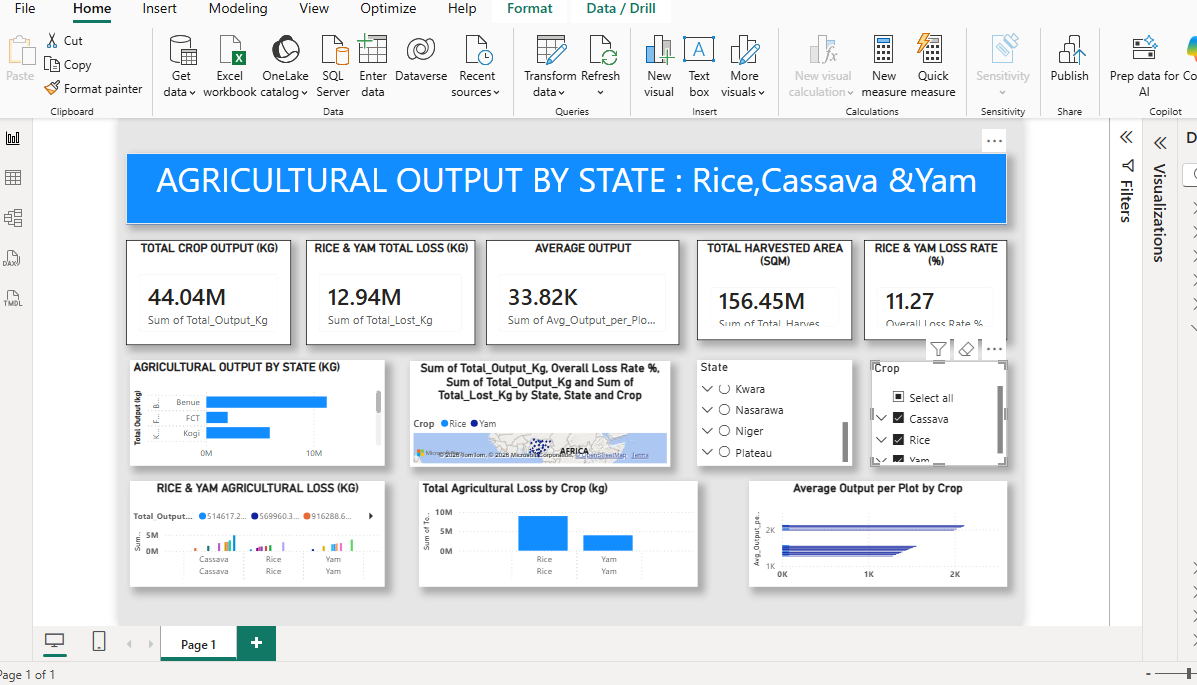

Layout of this report page (visuals, bound fields, positions):
{"tool":"powerbi","page":{"name":"Page 1","canvas":[1280,720],"ordinal":0},"visuals":[{"type":"textbox","box":[10.1,49,1248.5,100.8],"z":0},{"type":"cardVisual","title":"TOTAL CROP OUTPUT (KG)","fields":{"Data":["Sum(tblCassavaNC.Total_Output_Kg)","Sum(tblCassavaNC.Total_Output_Kg)"]},"box":[9.9,172.9,233.9,148.8],"z":1000},{"type":"cardVisual","title":"RICE & YAM TOTAL LOSS (KG)","fields":{"Data":["Sum(tblRiceYamOutput.Total_Lost_Kg)"]},"box":[265,172.9,239.5,148.8],"z":2000},{"type":"cardVisual","title":"AVERAGE OUTPUT","fields":{"Data":["Sum(tblCassavaNC.Avg_Output_per_Plot_Kg)","Sum(tblCassavaNC.Avg_Output_per_Plot_Kg)"]},"box":[520.2,172.9,273.5,148.8],"z":3000},{"type":"cardVisual","title":"TOTAL HARVESTED AREA (SQM) ","fields":{"Data":["Sum(tblCassavaNC.Total_Harvested_Area_SQM)","Sum(tblCassavaNC.Total_Harvested_Area_SQM)"]},"box":[819.2,172.9,219.7,141.7],"z":4000},{"type":"cardVisual","title":"RICE & YAM LOSS RATE (%)","fields":{"Data":["tblRiceYamOutput.Overall Loss Rate %","tblRiceYamOutput.Overall Loss Rate %"]},"box":[1055.9,172.9,202.7,141.7],"z":5000},{"type":"clusteredBarChart","title":"AGRICULTURAL OUTPUT BY STATE (KG)","fields":{"Category":["tblCassavaNC.State","tblCassavaNC.State"],"Y":["Sum(tblCassavaNC.Total_Output_Kg)","Sum(tblCassavaNC.Total_Output_Kg)"]},"box":[15.6,343,361.4,150.2],"z":6000},{"type":"map","fields":{"Category":["tblRiceYamOutput.State","tblRiceYamOutput.State"],"Series":["tblRiceYamOutput.Crop"],"Size":["Sum(tblRiceYamOutput.Total_Output_Kg)"]},"box":[412.4,344.4,368.5,150.2],"z":7000},{"type":"clusteredColumnChart","title":"RICE & YAM AGRICULTURAL LOSS (KG)","fields":{"Category":["tblCassavaNC.Crop","tblCassavaNC.Crop"],"Y":["Sum(tblCassavaNC.Total_Output_Kg)"],"Series":["tblCassavaNC.Total_Output_Kg"]},"box":[15.6,514.5,361.4,150.2],"z":8000},{"type":"clusteredColumnChart","title":" Total Agricultural Loss by Crop (kg)","fields":{"Category":["tblALLcropoutput.Crop","tblALLcropoutput.Crop"],"Y":["Sum(tblALLcropoutput.Total_Lost_Kg)"]},"box":[425.2,514.5,394.6,149.8],"z":9000},{"type":"listSlicer","fields":{"Values":["tblCassavaNC.State","tblCassavaNC.State"]},"box":[819.2,343,219.7,150.2],"z":10000},{"type":"listSlicer","fields":{"Values":["tblCassavaNC.Crop","tblCassavaNC.Crop"]},"box":[1065.8,344.4,192.8,148.8],"z":11000},{"type":"clusteredBarChart","title":"Average Output per Plot by Crop","fields":{"Y":["CountNonNull(tblALLcropoutput.State)","Sum(tblCassavaNC.Avg_Output_per_Plot_Kg)"],"Category":["tblCassavaNC.Avg_Output_per_Plot_Kg"]},"box":[892.9,514.5,365.8,149.8],"z":12000}]}

Visuals, with their boxes on the page's 1280x720 design canvas (x1, y1, x2, y2). These are canvas units, not pixel positions in the 1197x685 screenshot, which may show the page scaled, cropped or inside an application window:
textbox: x1=10 y1=49 x2=1259 y2=150
"TOTAL CROP OUTPUT (KG)" cardVisual: x1=10 y1=173 x2=244 y2=322
"RICE & YAM TOTAL LOSS (KG)" cardVisual: x1=265 y1=173 x2=504 y2=322
"AVERAGE OUTPUT" cardVisual: x1=520 y1=173 x2=794 y2=322
"TOTAL HARVESTED AREA (SQM) " cardVisual: x1=819 y1=173 x2=1039 y2=315
"RICE & YAM LOSS RATE (%)" cardVisual: x1=1056 y1=173 x2=1259 y2=315
"AGRICULTURAL OUTPUT BY STATE (KG)" clusteredBarChart: x1=16 y1=343 x2=377 y2=493
map - tblRiceYamOutput.State x tblRiceYamOutput.State: x1=412 y1=344 x2=781 y2=495
"RICE & YAM AGRICULTURAL LOSS (KG)" clusteredColumnChart: x1=16 y1=514 x2=377 y2=665
" Total Agricultural Loss by Crop (kg)" clusteredColumnChart: x1=425 y1=514 x2=820 y2=664
listSlicer - tblCassavaNC.State x tblCassavaNC.State: x1=819 y1=343 x2=1039 y2=493
listSlicer - tblCassavaNC.Crop x tblCassavaNC.Crop: x1=1066 y1=344 x2=1259 y2=493
"Average Output per Plot by Crop" clusteredBarChart: x1=893 y1=514 x2=1259 y2=664
